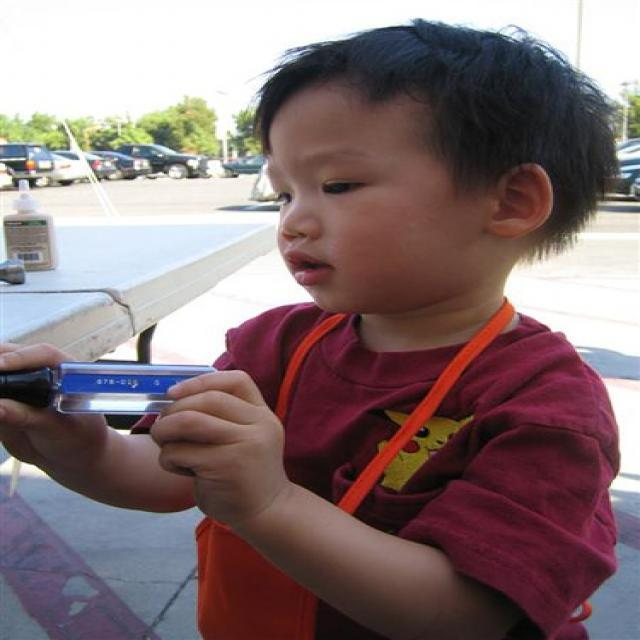screwdriver: (0, 352, 250, 426)
